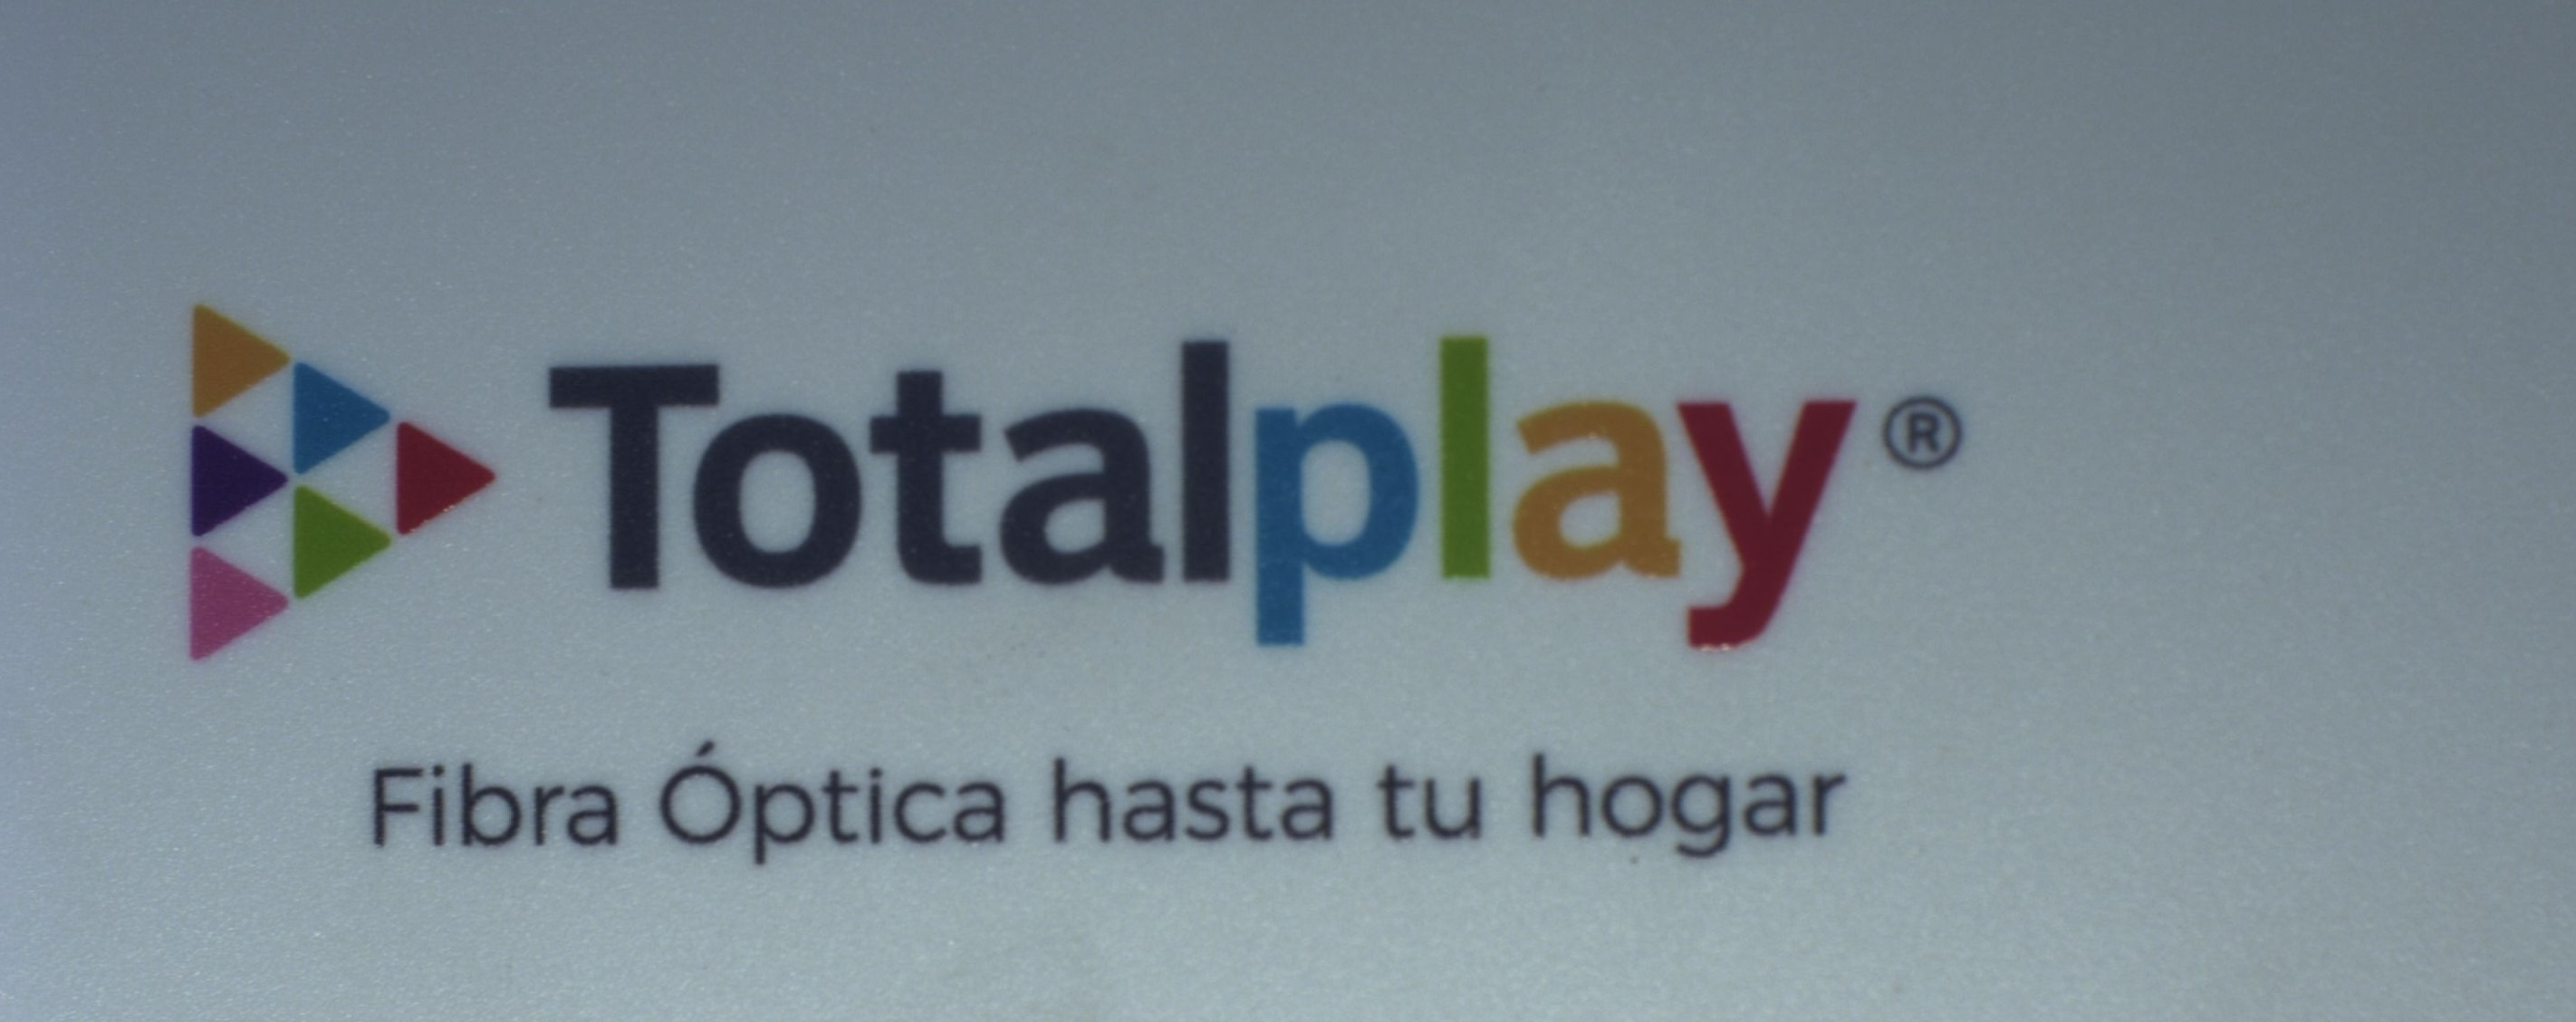BP_TotalPlay: (174, 284, 1965, 871)
